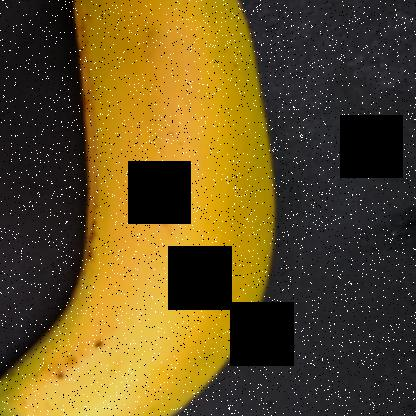freshripe: (0, 1, 311, 415)
